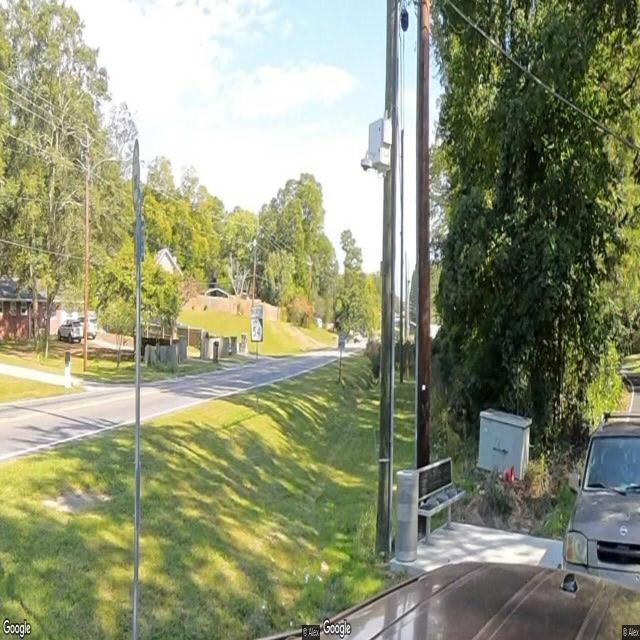seating: (418, 456, 466, 546)
trash_can: (396, 468, 418, 562)
